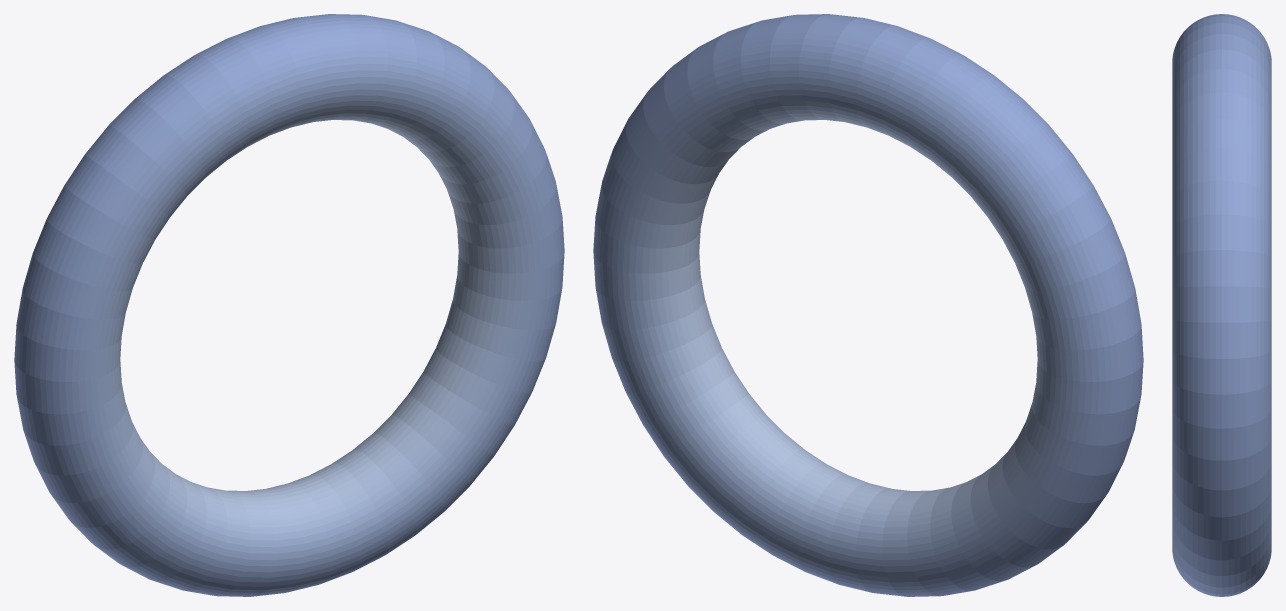
The picture shows the model from 3 angles, left to right: view 1: azimuth 30°, elevation 25°; view 2: azimuth 150°, elevation 25°; view 3: azimuth 270°, elevation 25°; orthographic projection. The views are drawn at different scales.
Parts seen in each view (by area): view 1: world; view 2: world; view 3: world.
Part boxes in pixels (box(x1,y1,x2,y2)): world: box(14, 14, 564, 596); world: box(593, 14, 1143, 596); world: box(1172, 14, 1271, 596).
Bounding box in the file's own units: 24.13 × 24.09 × 4.13.
